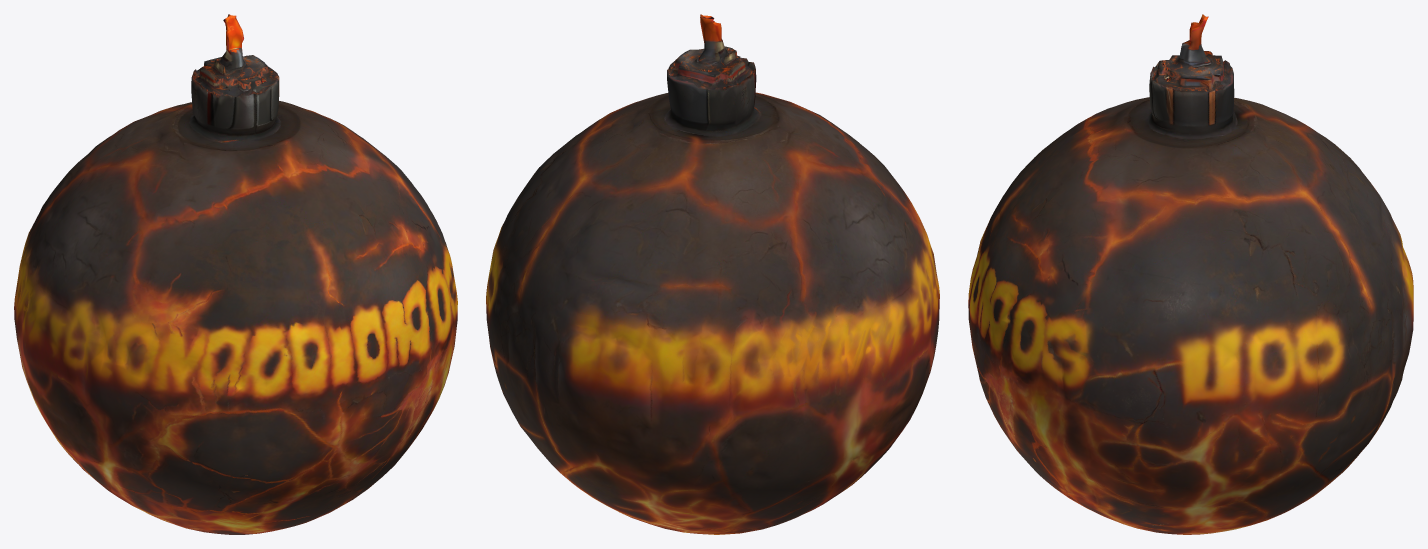
The model's file is Bomb.glb.
3 views of the same model, side by side, from view 1: azimuth 30°, elevation 25°; view 2: azimuth 150°, elevation 25°; view 3: azimuth 270°, elevation 25° (orthographic). The views are drawn at different scales.
Size of the model in its own units: 1.32 by 1.63 by 1.32.
Materials: 1 (1 with a texture image).
